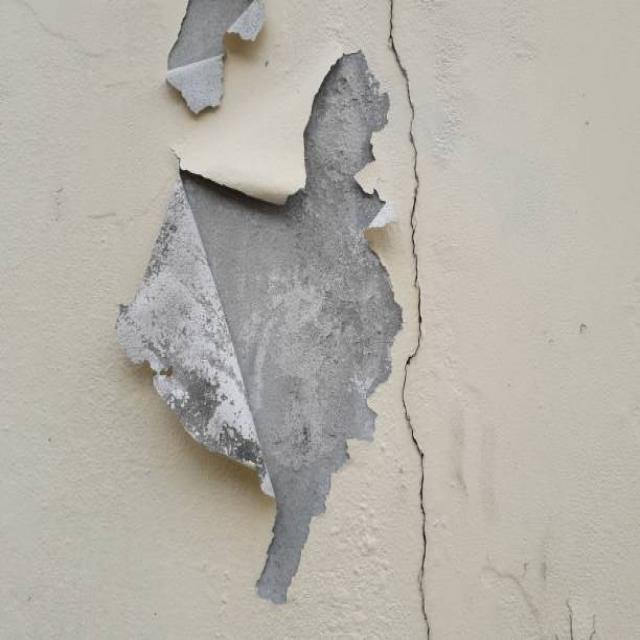Crack: (384, 0, 434, 639)
